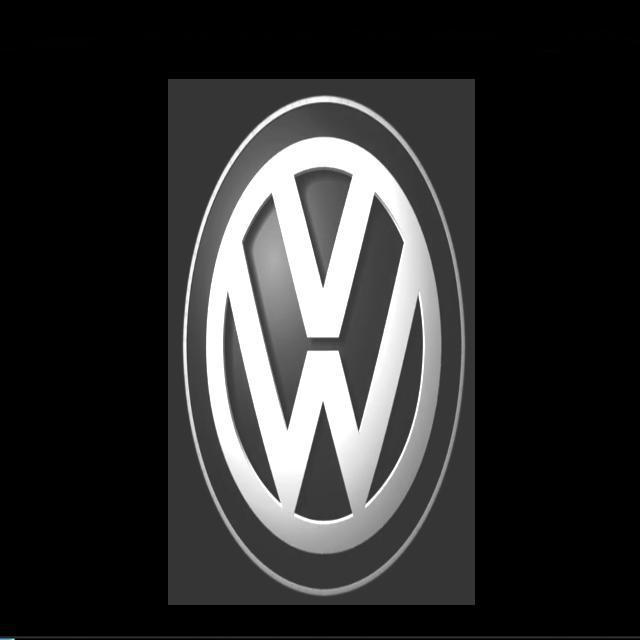volkswagen: (168, 79, 475, 605)
